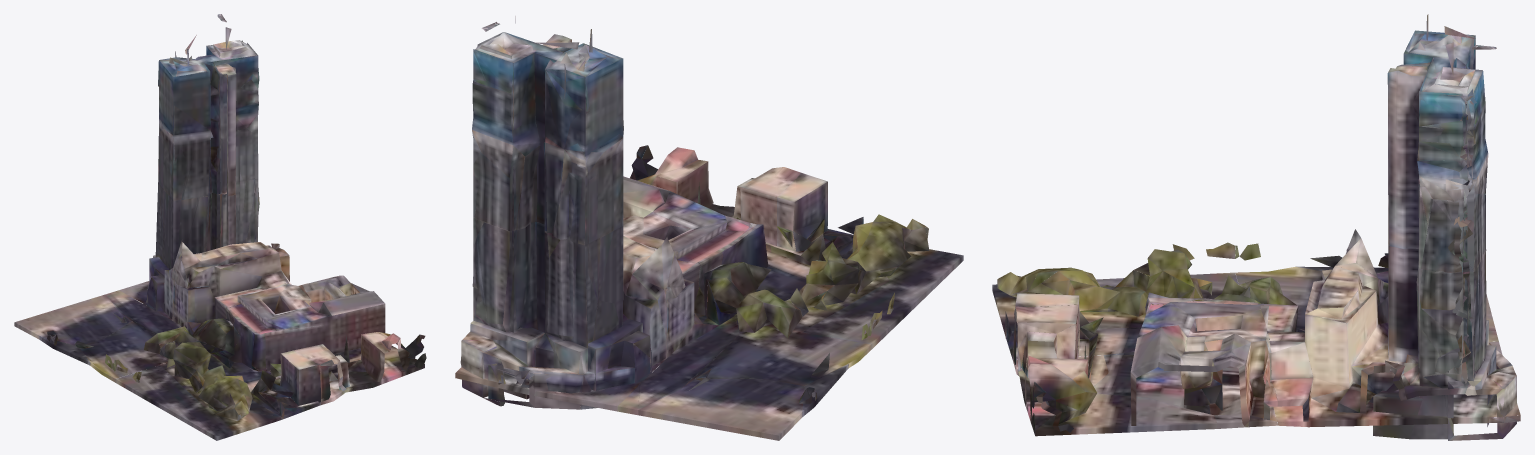
3 renders of one model, left to right at view 1: azimuth 30°, elevation 25°; view 2: azimuth 150°, elevation 25°; view 3: azimuth 270°, elevation 25°, orthographic. The views are drawn at different scales.
Parts seen in each view (by area): view 1: Mesh_0; view 2: Mesh_0; view 3: Mesh_0.
Part boxes in pixels (x1,y1,x2,y2): Mesh_0: [14, 14, 426, 440]; Mesh_0: [455, 16, 963, 440]; Mesh_0: [992, 14, 1520, 440].
Size of the model in its own units: 134 by 133 by 165.
Materials: 2 (2 with a texture image).
